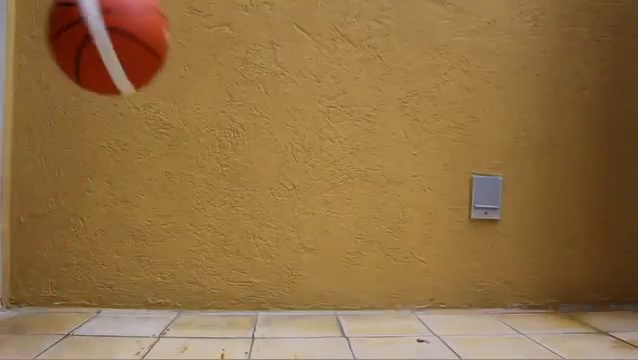ball: (46, 1, 169, 96)
